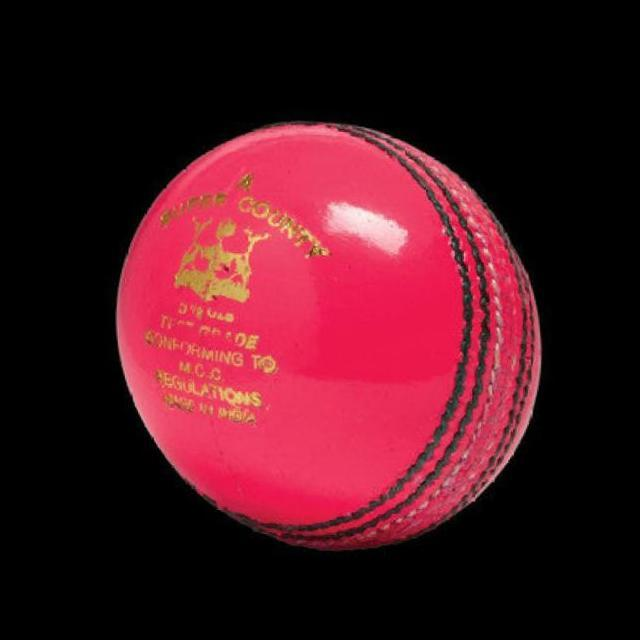cricket ball: (113, 118, 540, 550)
